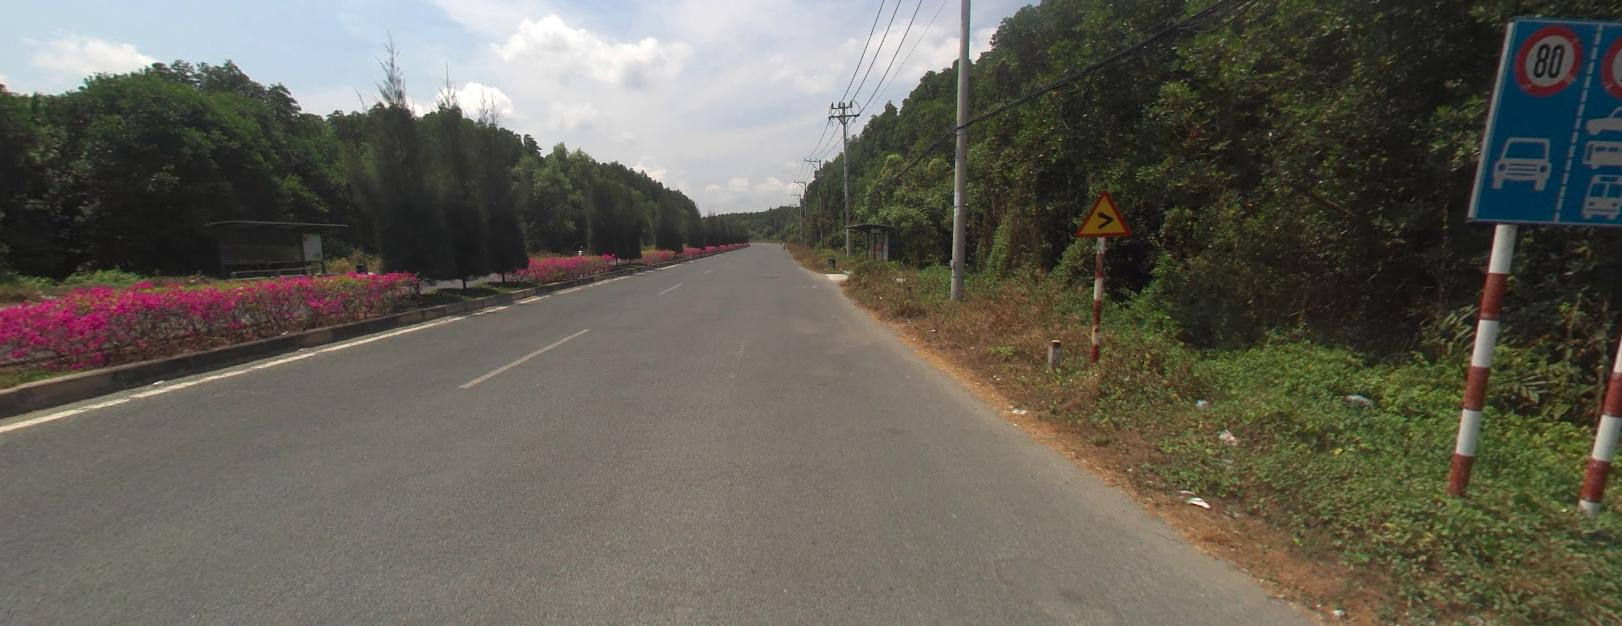Gioi han toc do: (1513, 23, 1583, 95)
Nguy hiem: (1070, 186, 1133, 238)
